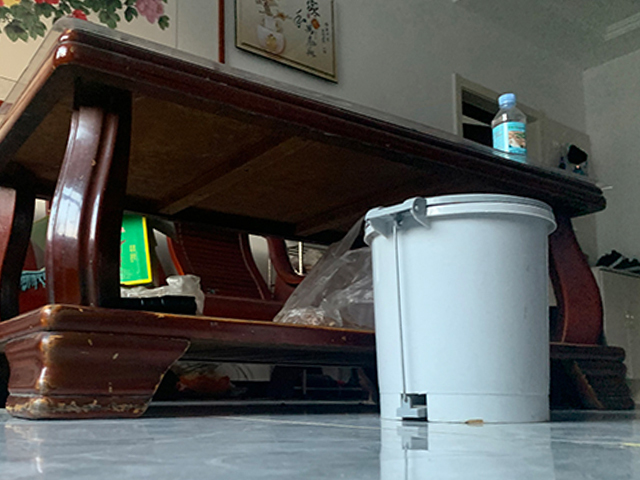cabinet: (595, 265, 640, 408)
table: (1, 15, 636, 420)
trashcan: (362, 195, 557, 426)
